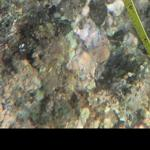dead: (1, 1, 148, 128)
